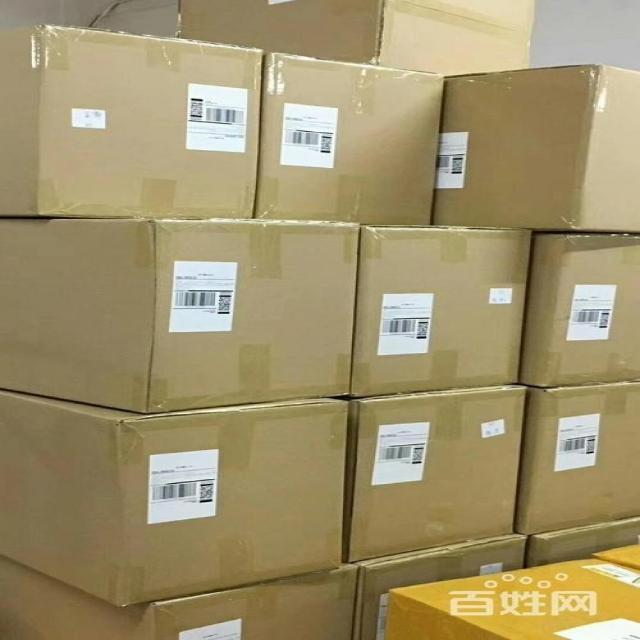box: (0, 390, 348, 608), (0, 219, 360, 413), (0, 24, 261, 220), (433, 63, 640, 231), (256, 52, 440, 226), (352, 224, 532, 397), (346, 387, 521, 564), (0, 558, 361, 640), (384, 556, 640, 640), (516, 383, 640, 536), (355, 533, 529, 640), (521, 233, 640, 388), (526, 518, 640, 567)
